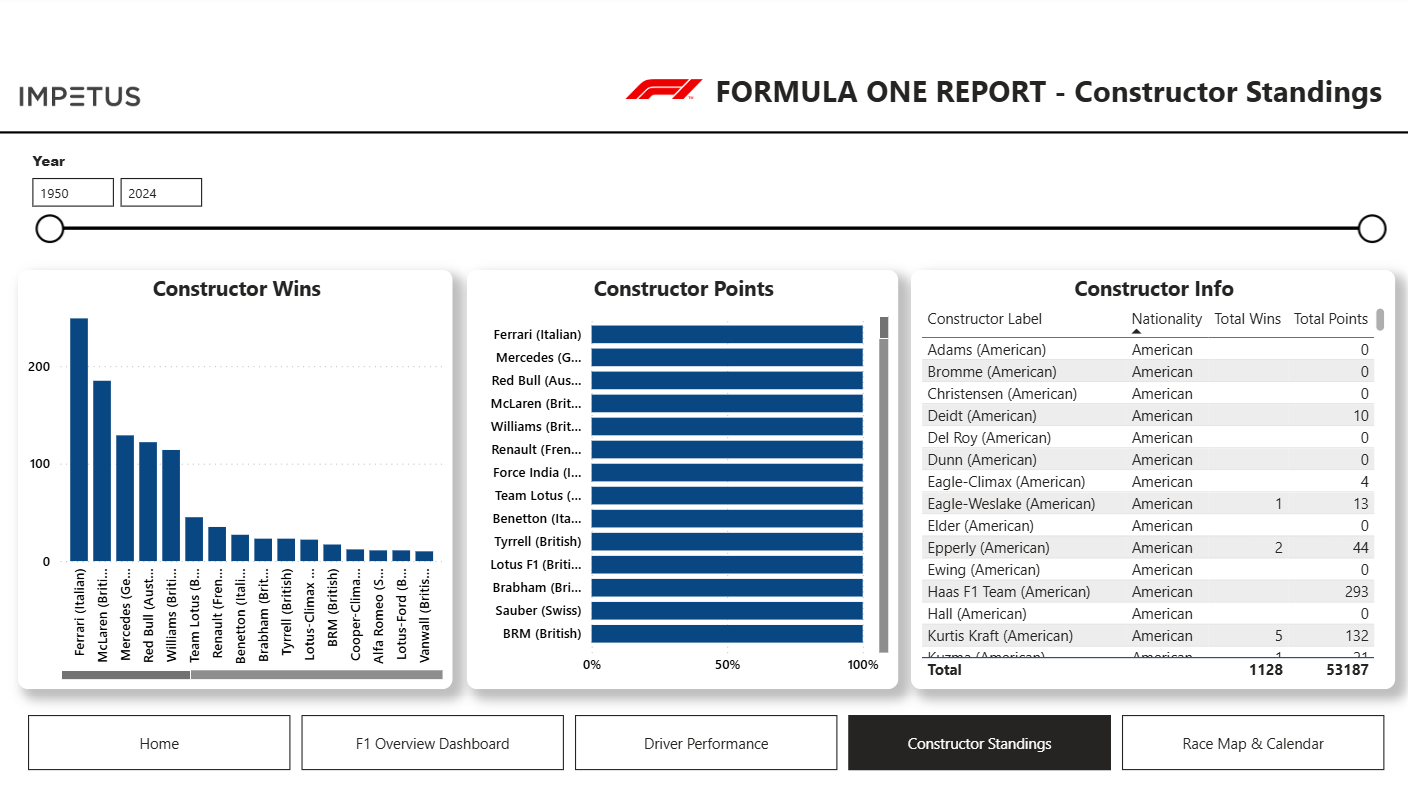

The dashboard page shown, as its layout file describes it:
{"tool":"powerbi","page":{"name":"Constructor Standings","canvas":[1280,720],"ordinal":3},"visuals":[{"type":"textbox","box":[644.4,62.5,635.7,55.3],"z":0,"group":"g2"},{"type":"clusteredColumnChart","title":"Constructor Wins","fields":{"Category":["constructors.Constructor Label"],"Y":["constructors.Constructor Wins"]},"box":[16.3,248.5,394.5,379.9],"z":0},{"type":"image","box":[562.5,54.3,79.8,60.8],"z":1000,"group":"g2"},{"type":"hundredPercentStackedBarChart","title":"Constructor Points","fields":{"Category":["constructors.Constructor Label"],"Y":["results.Total Points"]},"box":[423.5,248.5,390.8,379.9],"z":1000},{"type":"tableEx","title":" Constructor Info","fields":{"Values":["constructors.Constructor Label","constructors.nationality","results.Total Wins","results.Total Points"]},"box":[826.1,248.5,438.9,379.9],"z":2000},{"type":"slicer","fields":{"Values":["races.year"]},"box":[16.3,136,1248.7,96.1],"z":3000},{"type":"group","id":"g1","title":"Group 1","box":[0,54.3,1280.2,113.1],"z":4000},{"type":"image","box":[0,57.1,144.2,68],"z":5000},{"type":"shape","box":[0,79.6,1280.2,87.8],"z":6000,"group":"g1"},{"type":"pageNavigator","box":[25.1,651.8,1230.8,50.3],"z":6000},{"type":"group","id":"g2","title":"Group 2","box":[562.5,54.3,717.6,63.5],"z":7000,"group":"g1"},{"type":"actionButton","box":[0,57.1,144.2,68],"z":7000}]}

Visuals, with their boxes in screenshot pixels (x1, y1, x2, y2), scaled from the page's 1280x720 canvas onto the 1408x786 screenshot:
textbox: (709,68,1407,129)
"Constructor Wins" clusteredColumnChart: (18,271,452,686)
image: (619,59,707,126)
"Constructor Points" hundredPercentStackedBarChart: (466,271,896,686)
" Constructor Info" tableEx: (909,271,1392,686)
slicer - races.year: (18,148,1392,253)
"Group 1" group: (0,59,1407,183)
image: (0,62,159,137)
shape: (0,87,1407,183)
pageNavigator: (28,712,1381,766)
"Group 2" group: (619,59,1407,129)
actionButton: (0,62,159,137)
